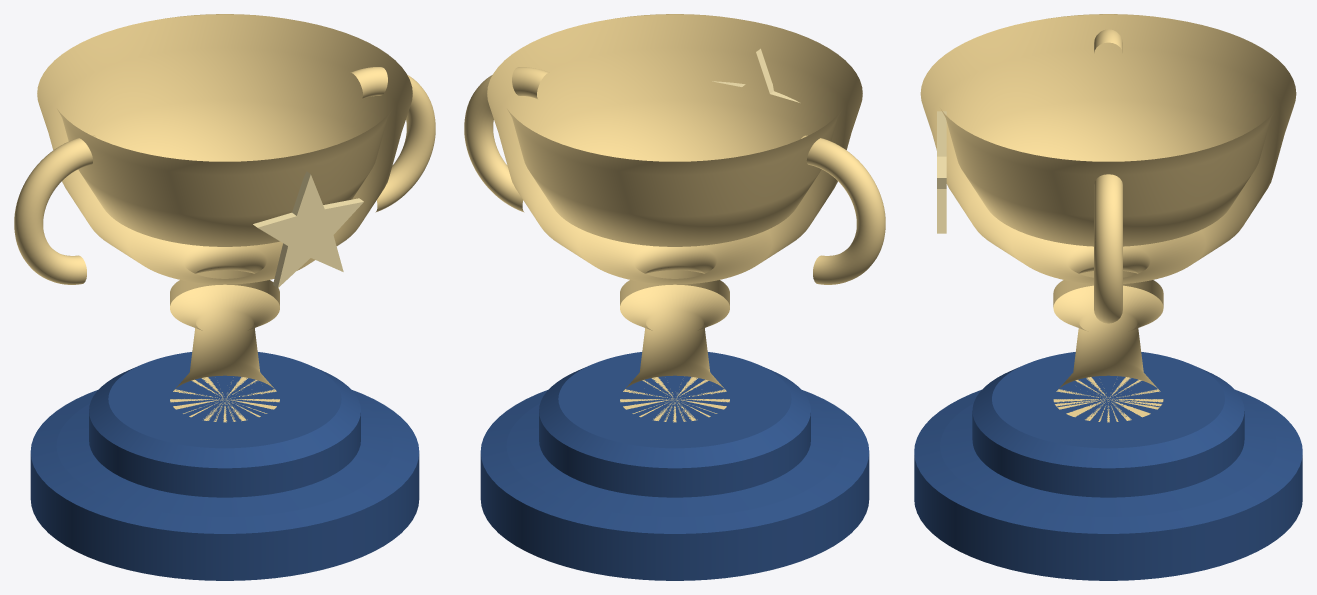
File: trophy.glb
3 renders of one model, left to right at view 1: azimuth 30°, elevation 25°; view 2: azimuth 150°, elevation 25°; view 3: azimuth 270°, elevation 25°, orthographic.
Visible parts, largest first — view 1: trophy; view 2: trophy; view 3: trophy.
Boxes of the visible parts, x1,y1,x2,y2 form: trophy: [14, 14, 435, 580]; trophy: [464, 14, 885, 580]; trophy: [914, 14, 1302, 580].
Size of the model in its own units: 1.49 by 1.4 by 1.2.
